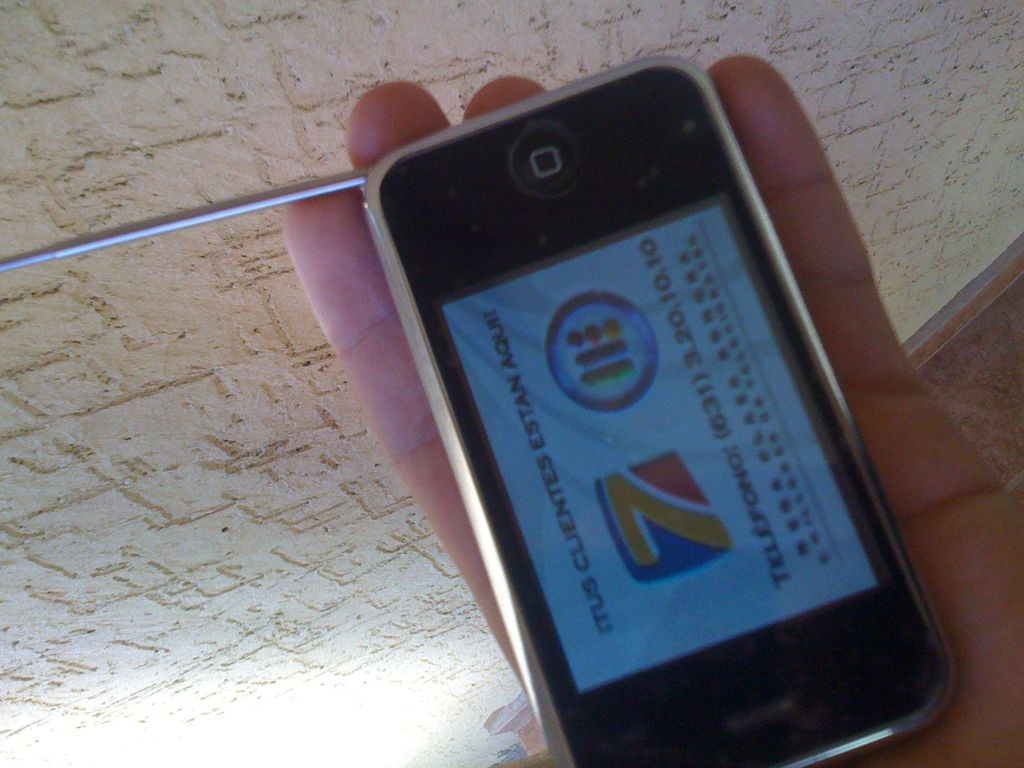Mobile-phone: (372, 55, 958, 768)
